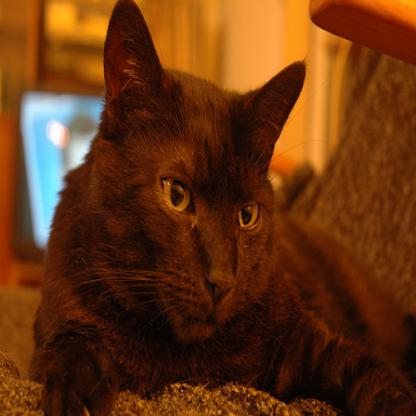cat: (64, 0, 386, 412)
